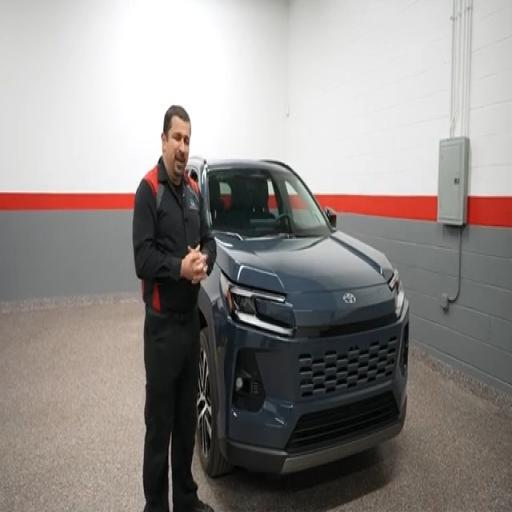bumper: (218, 301, 408, 473), (221, 397, 406, 473)
emblem: (343, 293, 355, 304)
fog_light: (233, 349, 264, 411), (236, 376, 243, 392)
grille: (287, 393, 399, 453), (299, 336, 398, 398)
headlight: (220, 274, 293, 335), (388, 269, 404, 317)
hood: (216, 232, 392, 292)
side_mirror: (325, 207, 336, 227)
wheel: (197, 329, 232, 477)
windshield: (208, 168, 330, 237)
